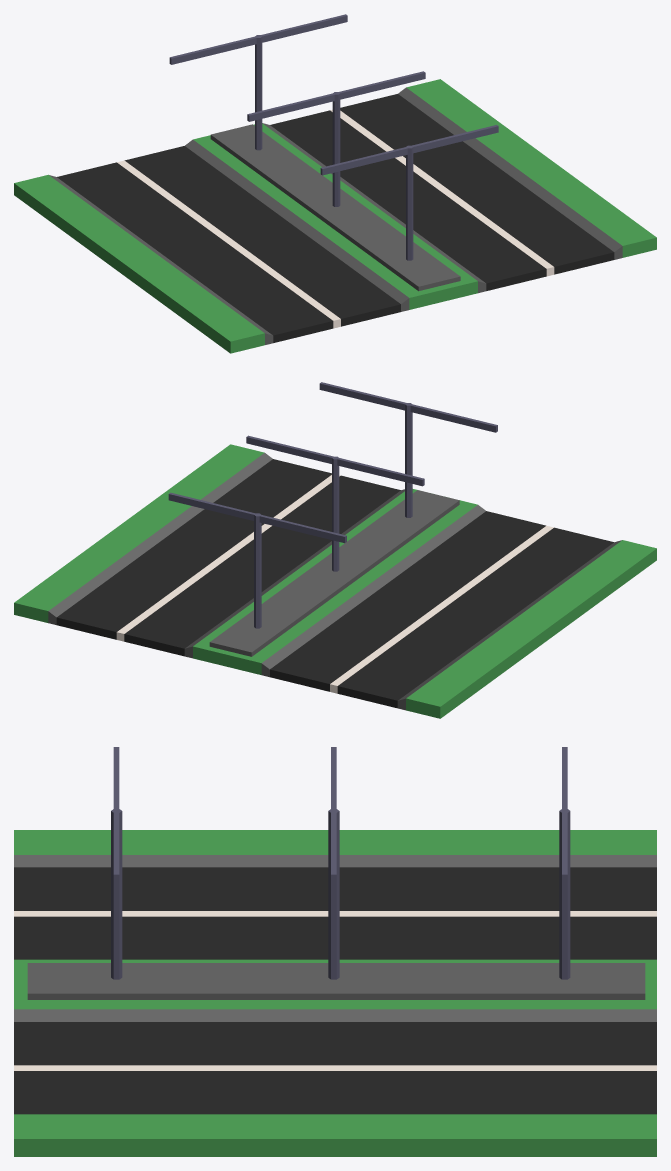
The model's file is road.fbx.
3 renders of one model, top to bottom at view 1: azimuth 30°, elevation 25°; view 2: azimuth 150°, elevation 25°; view 3: azimuth 270°, elevation 25°, orthographic. The views are drawn at different scales.
Visible parts, largest first — view 1: droga2, droga1, lampa; view 2: droga2, droga1, lampa; view 3: droga1, droga2, lampa.
Part boxes in pixels (<box>): droga2: <box>14,135,443,353</box>; droga1: <box>253,79,656,301</box>; lampa: <box>169,14,498,291</box>; droga2: <box>227,500,656,718</box>; droga1: <box>14,444,416,666</box>; lampa: <box>168,382,497,656</box>; droga1: <box>14,984,656,1156</box>; droga2: <box>14,830,656,984</box>; lampa: <box>27,747,645,999</box>.
Size of the model in its own units: 500 by 145 by 439.
